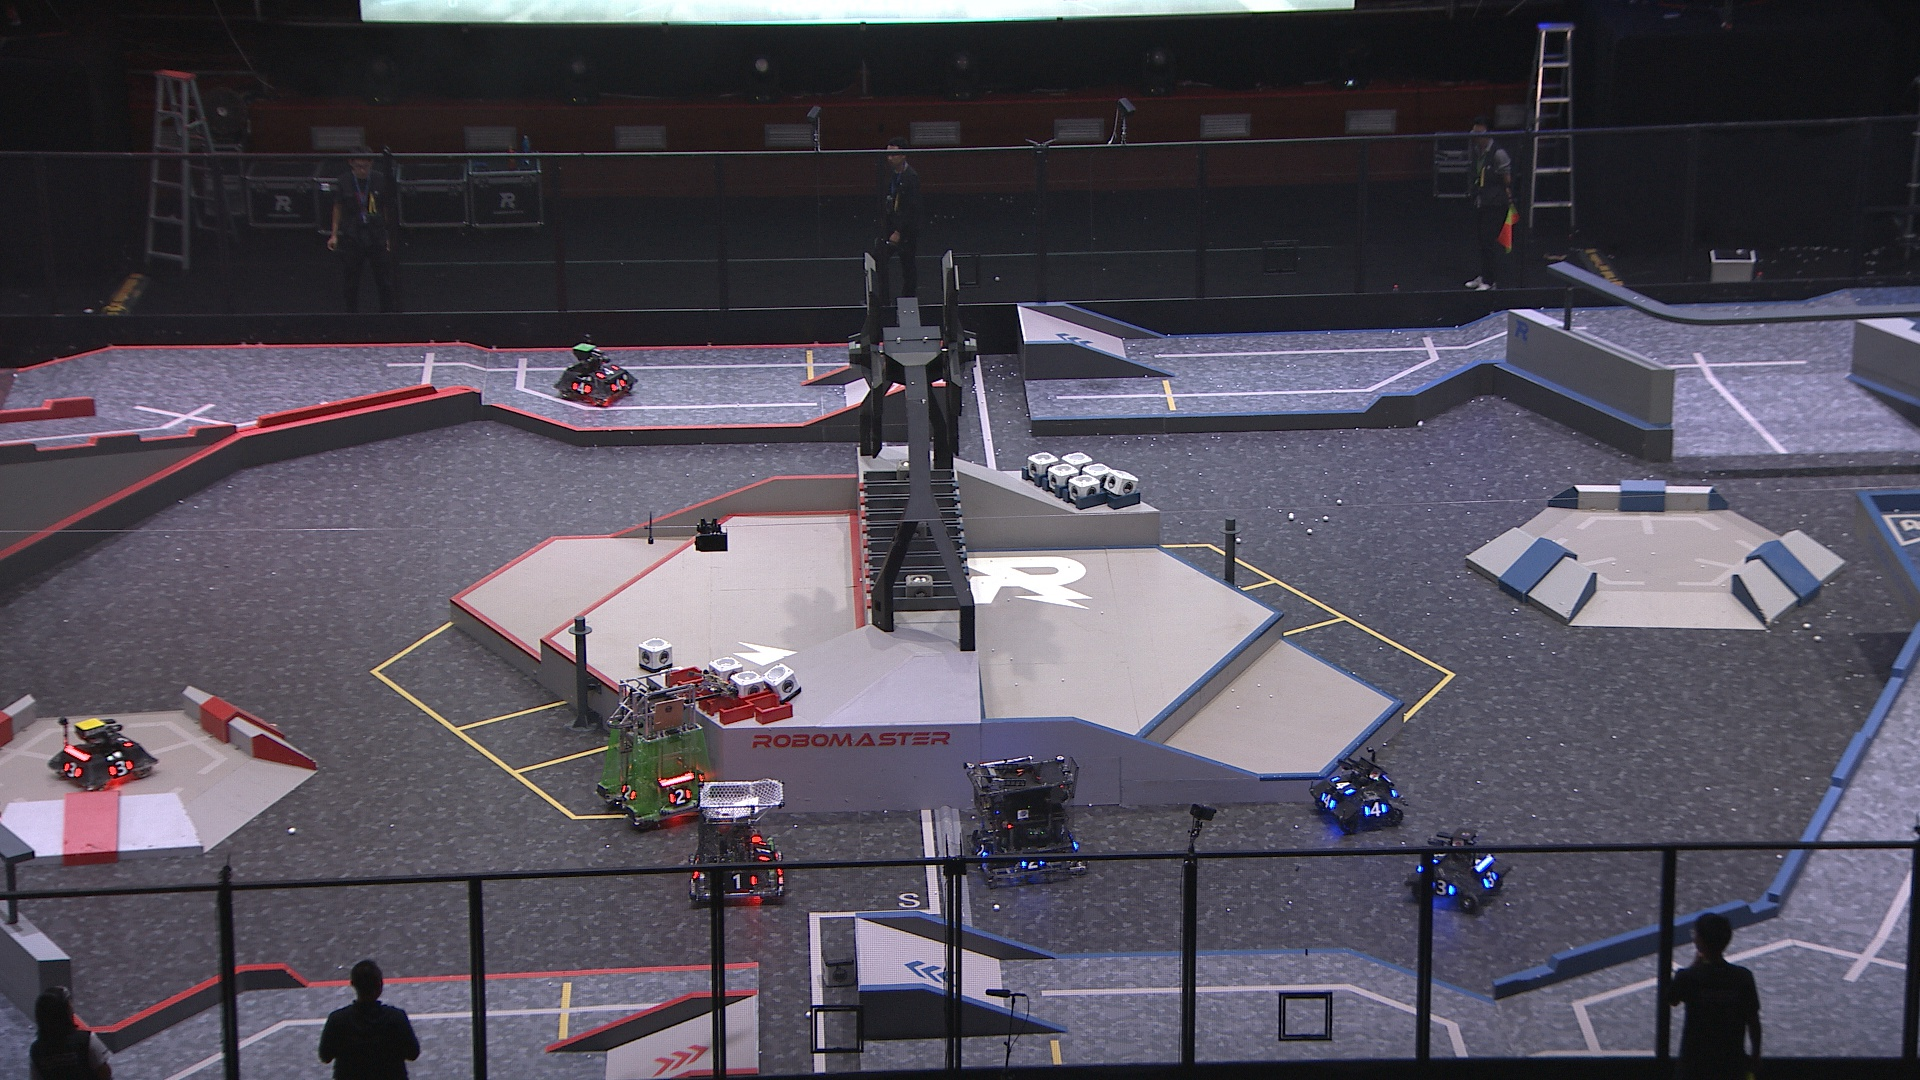armor: (723, 873, 756, 893), (1332, 775, 1357, 796), (667, 789, 694, 808), (107, 760, 135, 778), (1362, 800, 1391, 818), (1481, 868, 1501, 891), (1432, 878, 1457, 897), (756, 840, 774, 864), (62, 761, 82, 781), (1019, 858, 1048, 872), (1319, 793, 1338, 811), (113, 735, 135, 750), (596, 365, 621, 378), (571, 381, 593, 396), (621, 783, 637, 803), (611, 377, 628, 394), (975, 843, 989, 858)
car: (595, 669, 712, 832), (960, 752, 1093, 889), (683, 774, 794, 909), (1307, 744, 1406, 839), (46, 712, 161, 794), (1404, 827, 1509, 916), (553, 338, 641, 410)
